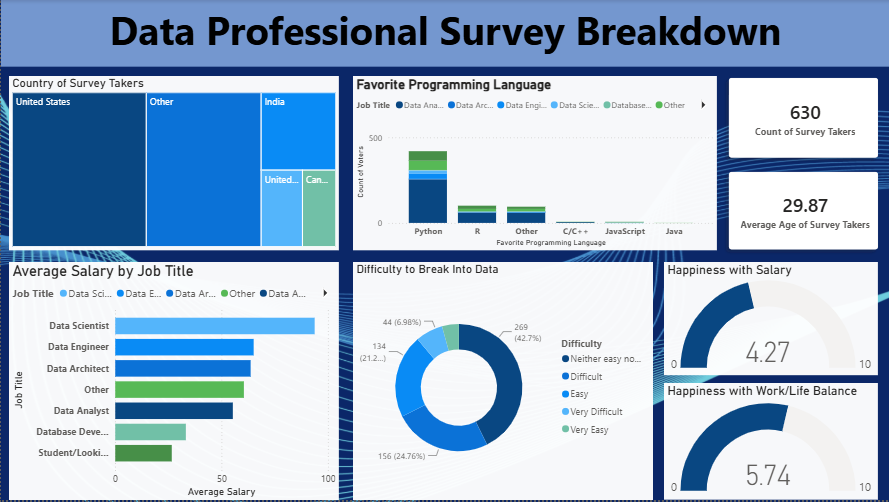

What the dashboard file says about the page in this screenshot:
{"tool":"powerbi","page":{"name":"Page 1","canvas":[1280,720],"ordinal":0},"visuals":[{"type":"textbox","box":[0,0,1280,95.7],"z":0},{"type":"cardVisual","fields":{"Data":["Count(Data Professional Survey.Unique ID)"]},"box":[1031,95,249.1,149.8],"z":1000},{"type":"cardVisual","fields":{"Data":["Avg(Data Professional Survey.Q10 - Current Age)"]},"box":[1031,230.4,249.1,146.9],"z":2000},{"type":"barChart","title":"Average Salary by Job Title","fields":{"Category":["Data Professional Survey.Q1 - Which Title Best Fits your Current Role?.1"],"Y":["Avg(Data Professional Survey.Average Salary)"],"Series":["Data Professional Survey.Q1 - Which Title Best Fits your Current Role?.1"]},"box":[11.5,377.3,475.2,342.7],"z":3000},{"type":"columnChart","title":"Favorite Programming Language","fields":{"Category":["Data Professional Survey.Q5 - Favorite Programming Language.1"],"Y":["CountNonNull(Data Professional Survey.Unique ID)"],"Series":["Data Professional Survey.Q1 - Which Title Best Fits your Current Role?.1"]},"box":[506.9,109.4,524.2,250.6],"z":4000},{"type":"treemap","title":"Country of Survey Takers","fields":{"Group":["Data Professional Survey.Q11 - Which Country do you live in?.1"],"Values":["CountNonNull(Data Professional Survey.Q11 - Which Country do you live in?.1)"]},"box":[11.5,109.4,475.2,250.6],"z":5000},{"type":"gauge","title":"Happiness with Work/Life Balance","fields":{"Y":["Avg(Data Professional Survey.Q6 - How Happy are you in your Current Position with the following? (Work/Life Balance))"],"MinValue":["Min(Data Professional Survey.Q6 - How Happy are you in your Current Position with the following? (Work/Life Balance))1"],"MaxValue":["Max(Data Professional Survey.Q6 - How Happy are you in your Current Position with the following? (Work/Life Balance))2"]},"box":[954.7,551.5,308.2,168.5],"z":6000},{"type":"gauge","title":"Happiness with Salary","fields":{"Y":["Avg(Data Professional Survey.Q6 - How Happy are you in your Current Position with the following? (Salary))"],"MinValue":["Min(Data Professional Survey.Q6 - How Happy are you in your Current Position with the following? (Salary))"],"MaxValue":["Max(Data Professional Survey.Q6 - How Happy are you in your Current Position with the following? (Salary))"]},"box":[954.7,377.3,308.2,162.7],"z":7000},{"type":"donutChart","title":"Difficulty to Break Into Data","fields":{"Y":["CountNonNull(Data Professional Survey.Q7 - How difficult was it for you to break into Data?)"],"Category":["Data Professional Survey.Q7 - How difficult was it for you to break into Data?"]},"box":[506.9,377.3,432,342.7],"z":8000}]}

Visuals, with their boxes in screenshot pixels (x1, y1, x2, y2), scaled from the page's 1280x720 canvas onto the 889x502 screenshot:
textbox: l=0, t=0, r=888, b=67
cardVisual - Count(Data Professional Survey.Unique ID): l=716, t=66, r=888, b=171
cardVisual - Avg(Data Professional Survey.Q10 - Current Age): l=716, t=161, r=888, b=263
"Average Salary by Job Title" barChart: l=8, t=263, r=338, b=501
"Favorite Programming Language" columnChart: l=352, t=76, r=716, b=251
"Country of Survey Takers" treemap: l=8, t=76, r=338, b=251
"Happiness with Work/Life Balance" gauge: l=663, t=385, r=877, b=501
"Happiness with Salary" gauge: l=663, t=263, r=877, b=376
"Difficulty to Break Into Data" donutChart: l=352, t=263, r=652, b=501
